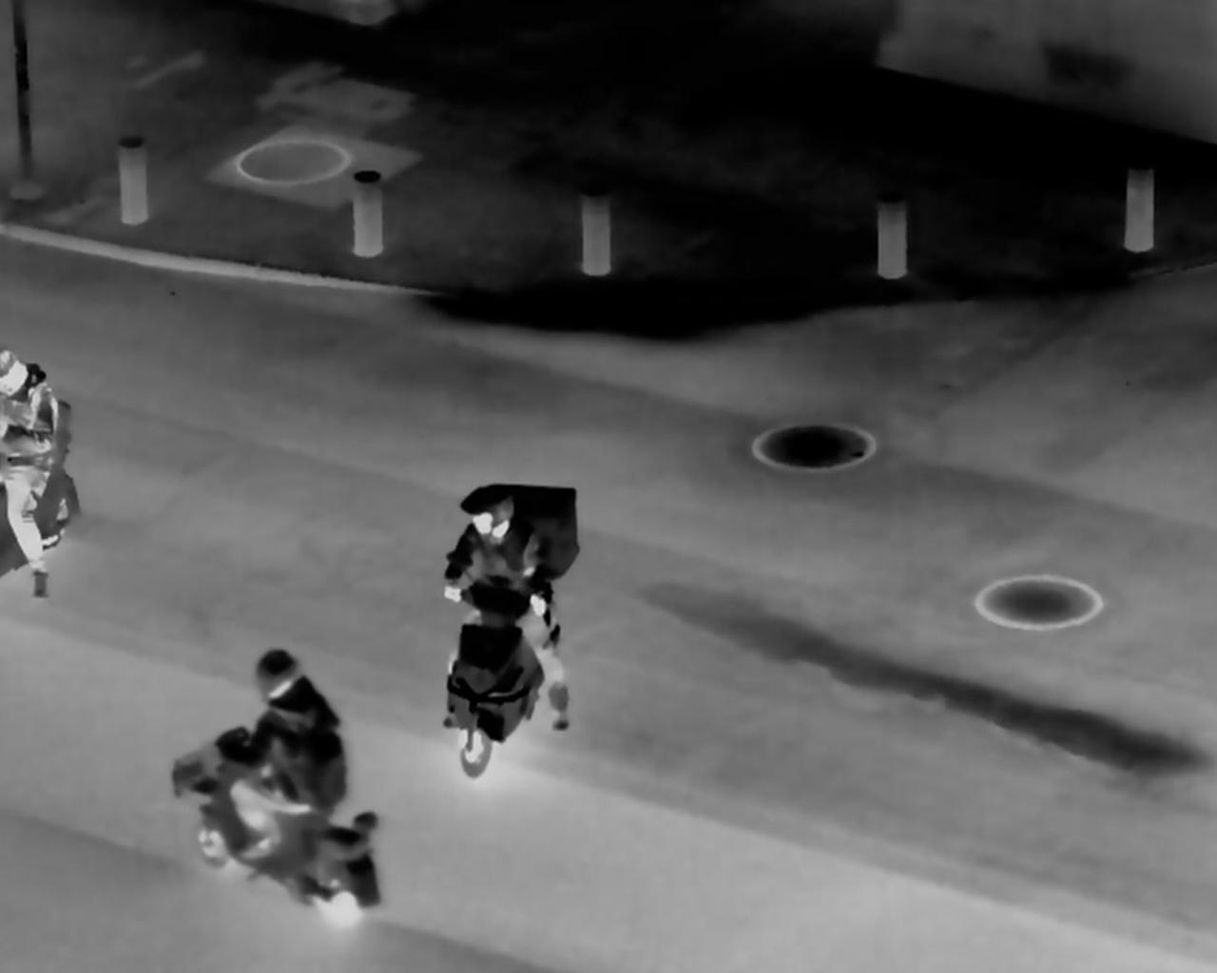person: (441, 487, 577, 726), (216, 634, 346, 883)
